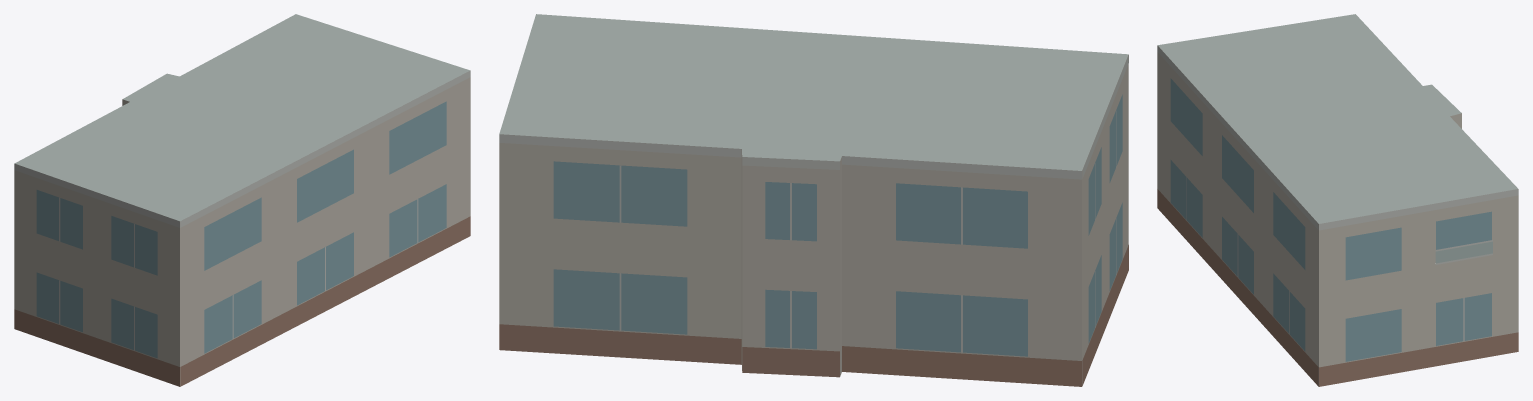
The model's file is survey-upis-32762514.glb.
3 renders of one model, left to right at view 1: azimuth 30°, elevation 25°; view 2: azimuth 150°, elevation 25°; view 3: azimuth 270°, elevation 25°, orthographic. The views are drawn at different scales.
Parts seen in each view (by area): view 1: survey-upis-32762514.tmp; view 2: survey-upis-32762514.tmp; view 3: survey-upis-32762514.tmp.
Boxes of the visible parts, x1,y1,x2,y2 form: survey-upis-32762514.tmp: (14, 14, 470, 386); survey-upis-32762514.tmp: (499, 14, 1128, 386); survey-upis-32762514.tmp: (1157, 14, 1518, 386).
Bounding box in the file's own units: 16.88 × 6.1 × 12.27.
